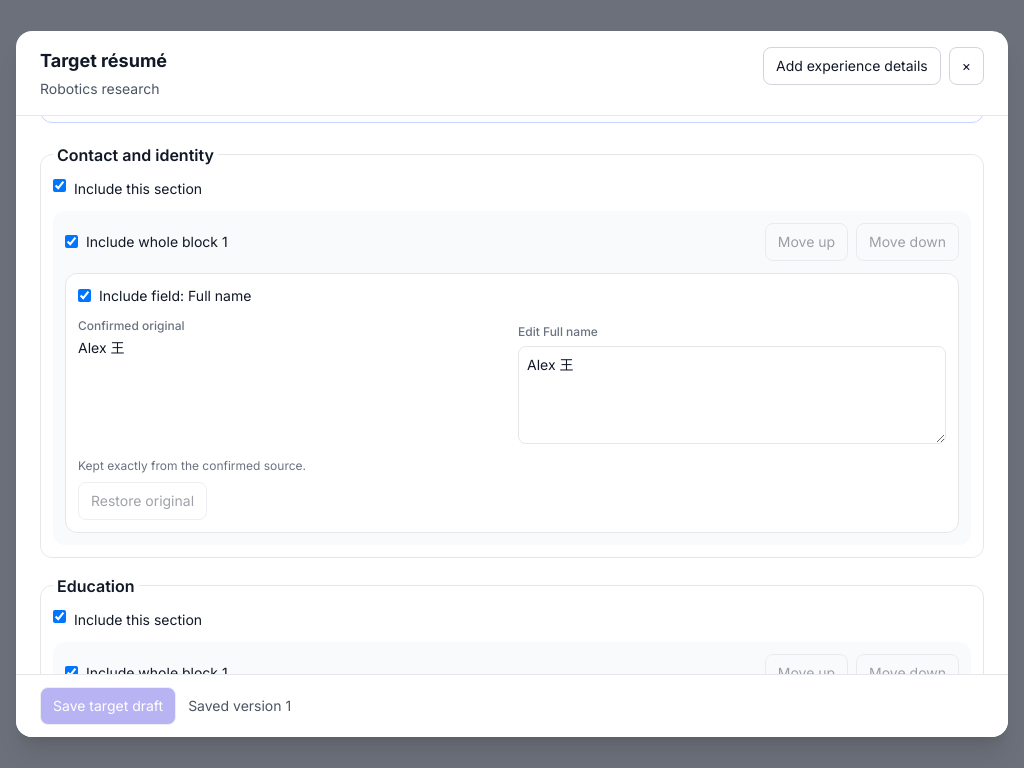
Test case: full target résumé modal › opens historical data without a current master and marks its original profile as outdated
(page scrolled)
Replace the text in the text box labelled "Edit Full name" with "Manual change on old draft". click: point(732, 395)
box: x1=518 y1=346 x2=946 y2=444
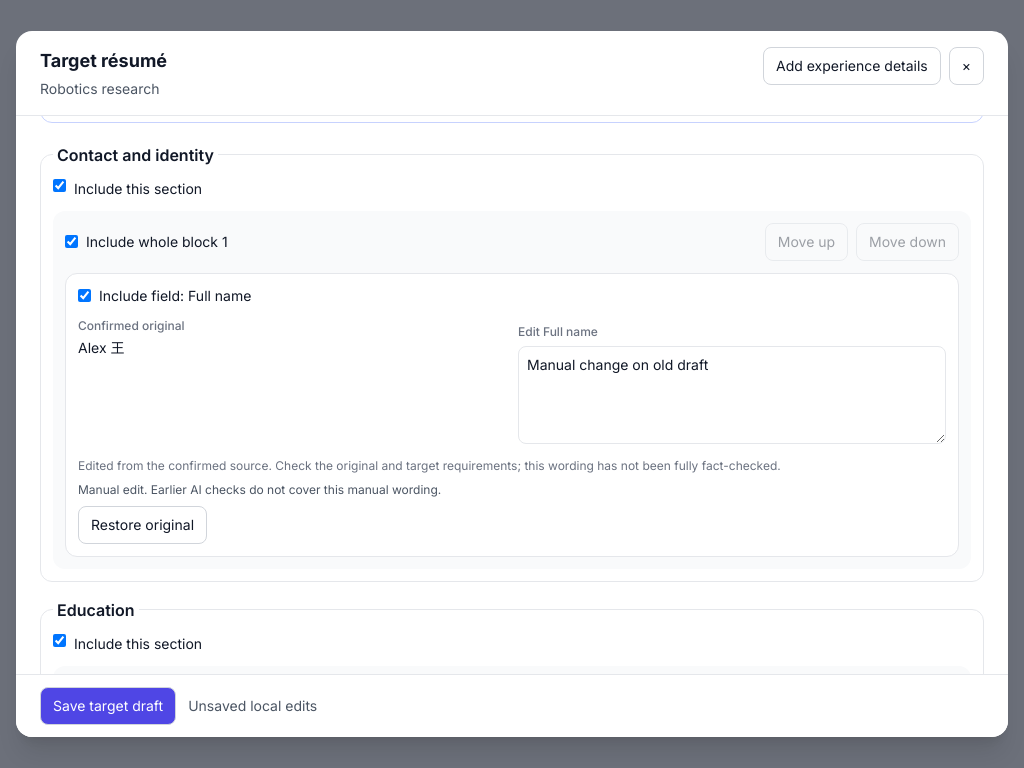
Click the button "Save target draft". click: point(108, 706)
box: x1=40 y1=687 x2=176 y2=725
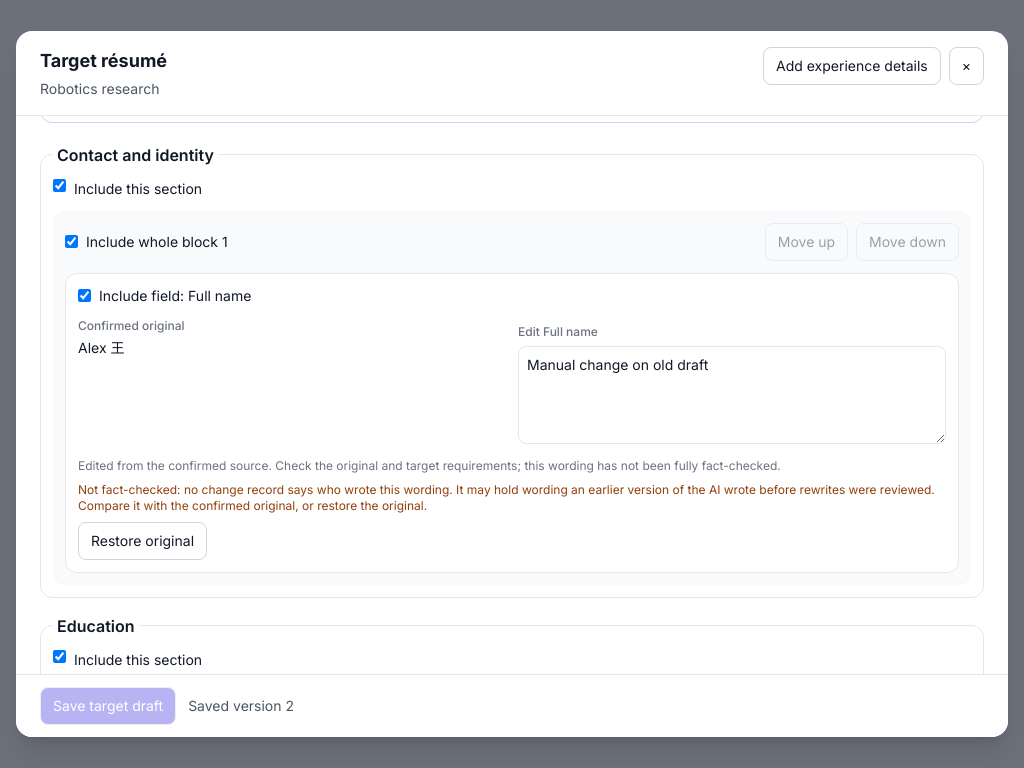
Check: the text "Saved version 2" is shown, box x1=188 y1=696 x2=294 y2=716
